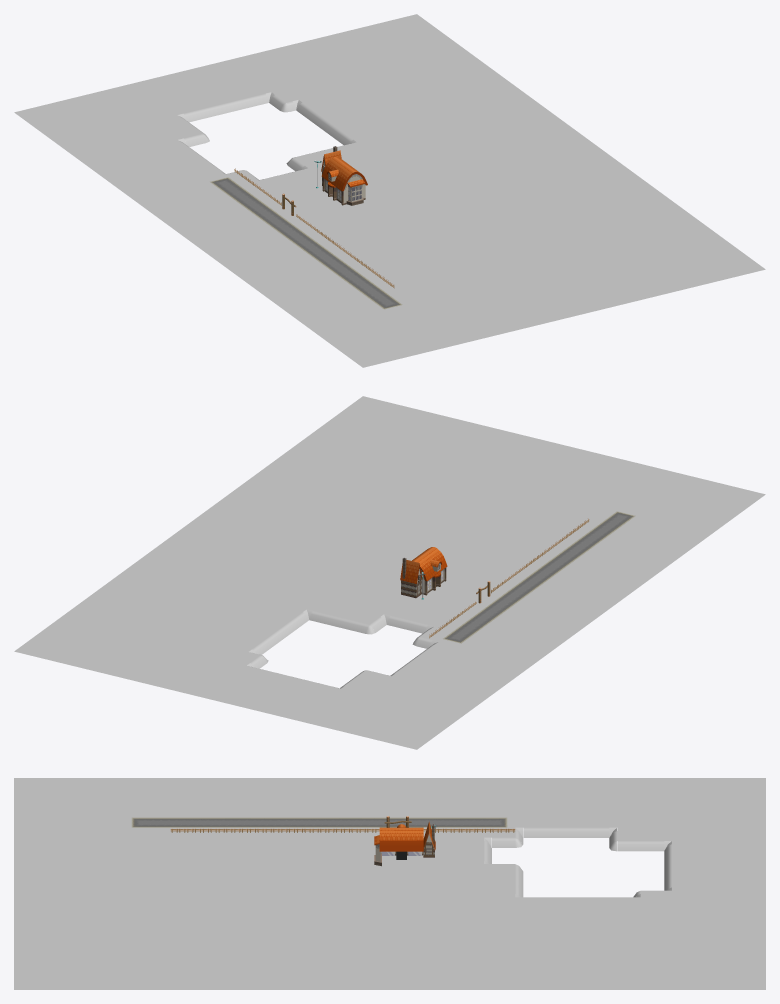
Rendered from DaycareMap.obj.
3 views of the same model, one above another, from view 1: azimuth 30°, elevation 25°; view 2: azimuth 150°, elevation 25°; view 3: azimuth 270°, elevation 25° (orthographic). The views are drawn at different scales.
Parts seen in each view (by area): view 1: map; view 2: map; view 3: map.
Part boxes in pixels (x1=…): map: x1=14, y1=14, x2=765, y2=367; map: x1=14, y1=396, x2=765, y2=749; map: x1=14, y1=778, x2=765, y2=989.
Bounding box in the file's own units: 64 × 6.74 × 96.
